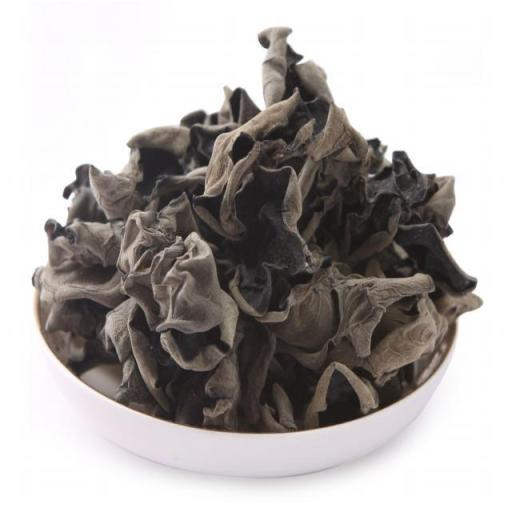Wood Ear Mushroom: (36, 26, 482, 426)
